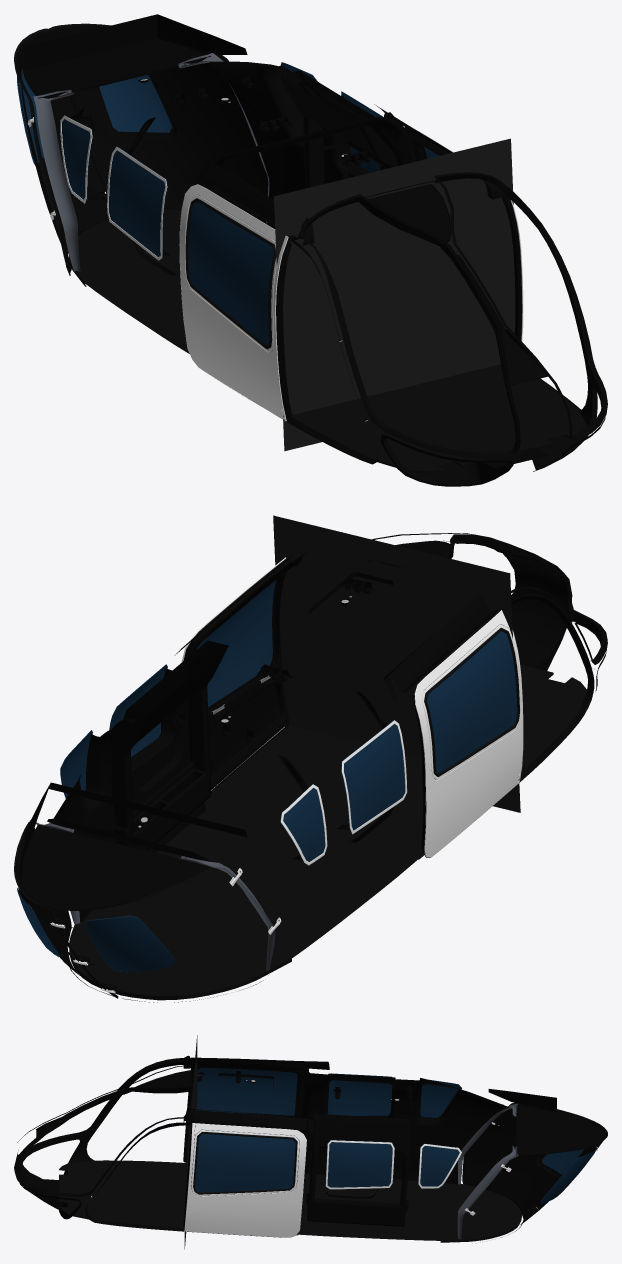
File: Helicopter.fbx
The picture shows the model from 3 angles, top to bottom: view 1: azimuth 30°, elevation 25°; view 2: azimuth 150°, elevation 25°; view 3: azimuth 270°, elevation 25°; orthographic projection. The views are drawn at different scales.
Visible parts, largest first — view 1: Helicopter_Plane (×9); view 2: Helicopter_Plane (×9); view 3: Helicopter_Plane (×9).
Part boxes in pixels (x1,y1,x2,y2): Helicopter_Plane (×9): [14, 14, 607, 486]; Helicopter_Plane (×9): [14, 515, 607, 1002]; Helicopter_Plane (×9): [14, 1035, 607, 1249].
Bounding box in the file's own units: 1.69 × 1.64 × 5.78.
